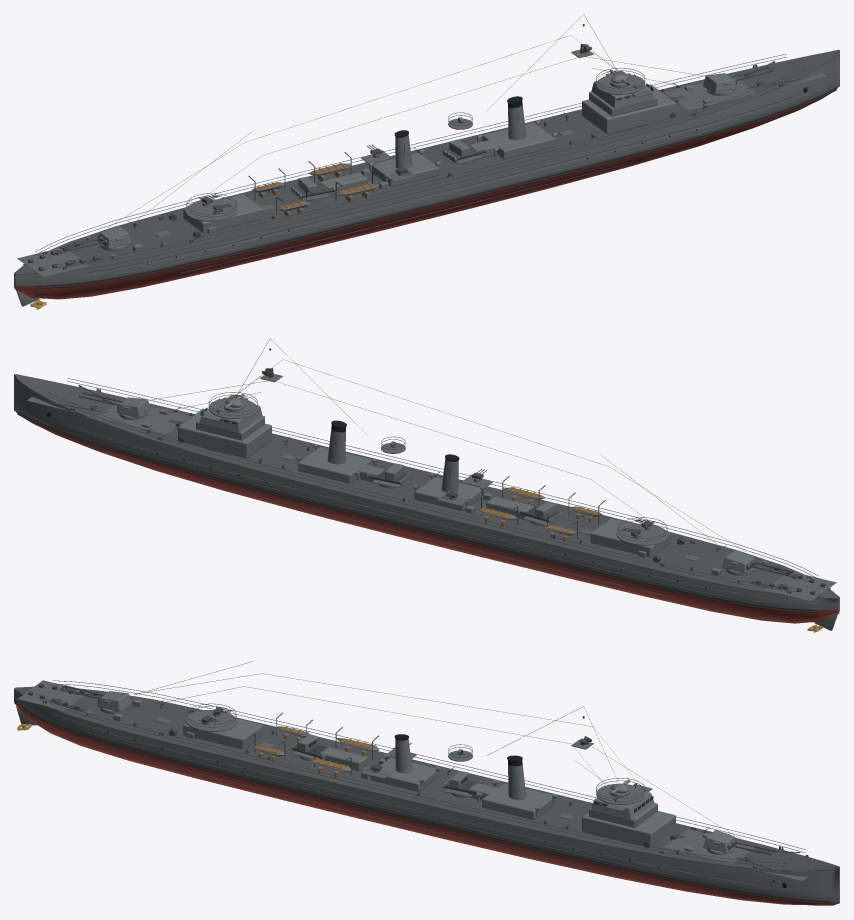
3 renders of one model, top to bottom at view 1: azimuth 30°, elevation 25°; view 2: azimuth 150°, elevation 25°; view 3: azimuth 330°, elevation 25°, orthographic.
Parts seen in each view (by area): view 1: Hull_Main, Main_Weather_Deck, Forward_Deckhouse_Lower, BootBandBottom_-1, BootBandTop_-1, Foredeck_Steel_Plate, Forward_Funnel_Base, Aft_Deckhouse, Aft_Funnel_Base, Stern_Steel_Plate, Degaussing_Cable_-1, Main_Railing_-1_0 (+12 smaller); view 2: Hull_Main, Main_Weather_Deck, Forward_Deckhouse_Lower, BootBandBottom_1, BootBandTop_1, Foredeck_Steel_Plate, Forward_Funnel_Base, Aft_Deckhouse, Aft_Funnel_Base, Stern_Steel_Plate, Degaussing_Cable_1, Main_Railing_1_1 (+12 smaller); view 3: Hull_Main, Main_Weather_Deck, Forward_Deckhouse_Lower, BootBandBottom_-1, BootBandTop_-1, Forward_Funnel_Base, Foredeck_Steel_Plate, Aft_Deckhouse, Aft_Funnel_Base, Degaussing_Cable_-1, Stern_Steel_Plate, Main_Railing_-1_0 (+15 smaller).
Part boxes in pixels (x1,y1,x2,y2): Hull_Main: (14,51,839,299); Main_Weather_Deck: (14,49,839,274); Forward_Deckhouse_Lower: (582,84,675,134); BootBandBottom_-1: (36,89,836,288); BootBandTop_-1: (36,87,836,286); Foredeck_Steel_Plate: (663,69,826,110); Forward_Funnel_Base: (482,123,555,159); Aft_Deckhouse: (183,194,263,233); Aft_Funnel_Base: (371,152,439,186); Stern_Steel_Plate: (17,248,89,277); Degaussing_Cable_-1: (79,92,804,273); Main_Railing_-1_0: (53,71,805,267); Hull_Main: (14,375,839,623); Main_Weather_Deck: (14,374,839,598); Forward_Deckhouse_Lower: (178,408,271,458); BootBandBottom_1: (17,413,817,612); BootBandTop_1: (17,411,817,610); Foredeck_Steel_Plate: (27,394,190,434); Forward_Funnel_Base: (298,447,371,483); Aft_Deckhouse: (590,518,670,557); Aft_Funnel_Base: (414,477,482,511); Stern_Steel_Plate: (764,572,836,601); Degaussing_Cable_1: (49,416,774,598); Main_Railing_1_1: (48,392,800,589); Hull_Main: (14,689,839,905); Main_Weather_Deck: (14,686,839,871); Forward_Deckhouse_Lower: (582,811,675,847); BootBandBottom_-1: (24,709,830,904); BootBandTop_-1: (24,708,830,902); Forward_Funnel_Base: (482,783,555,819); Foredeck_Steel_Plate: (663,829,816,881); Aft_Deckhouse: (183,718,263,749); Aft_Funnel_Base: (370,757,439,791); Degaussing_Cable_-1: (51,712,783,886); Stern_Steel_Plate: (17,680,87,710); Main_Railing_-1_0: (35,696,786,866).
Bounding box in the file's own units: 11851 × 2224 × 1102.
